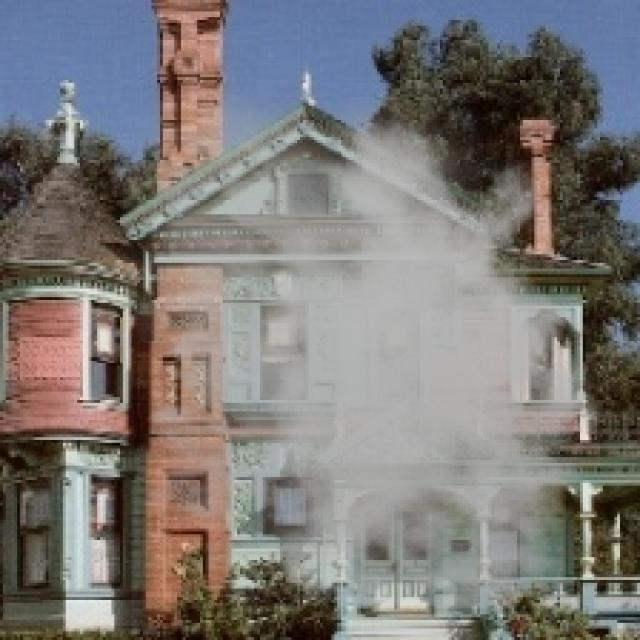smoke: (85, 69, 626, 617)
